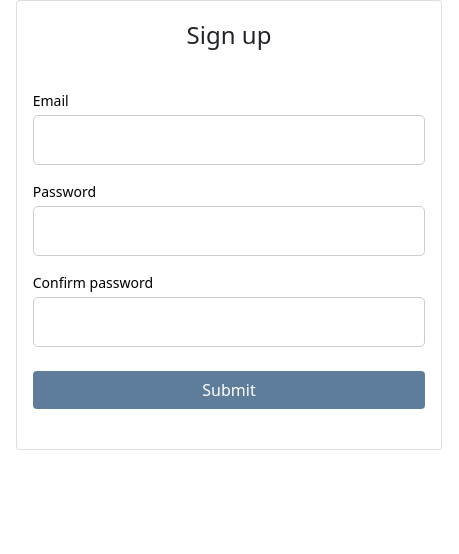
it: SignupContainer › should show wrong format msg if email format is incorrect
This screenshot has width=459, height=554.
Expected: the number of forms is 1, 33,74 -> 425,433
Type "wrong email format" into the field at (229, 140), box 33,115 -> 425,165
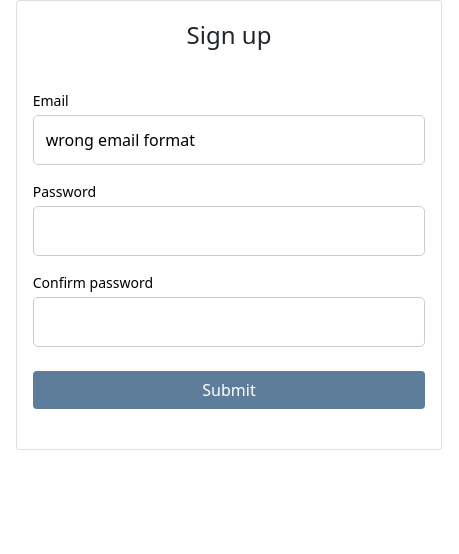
Submit the form, box 33,74 -> 425,433
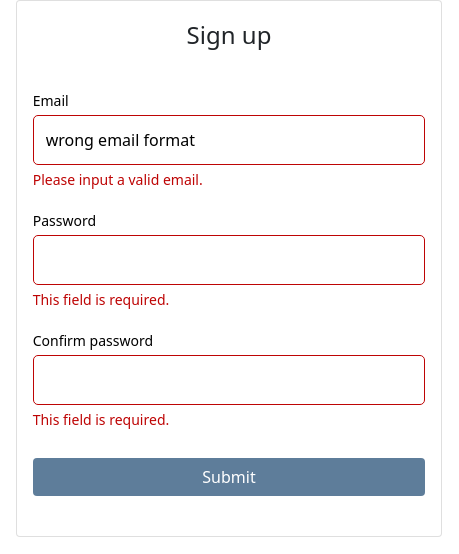
Expected: the text "Please input a valid email." is shown, 33,170 -> 203,189
